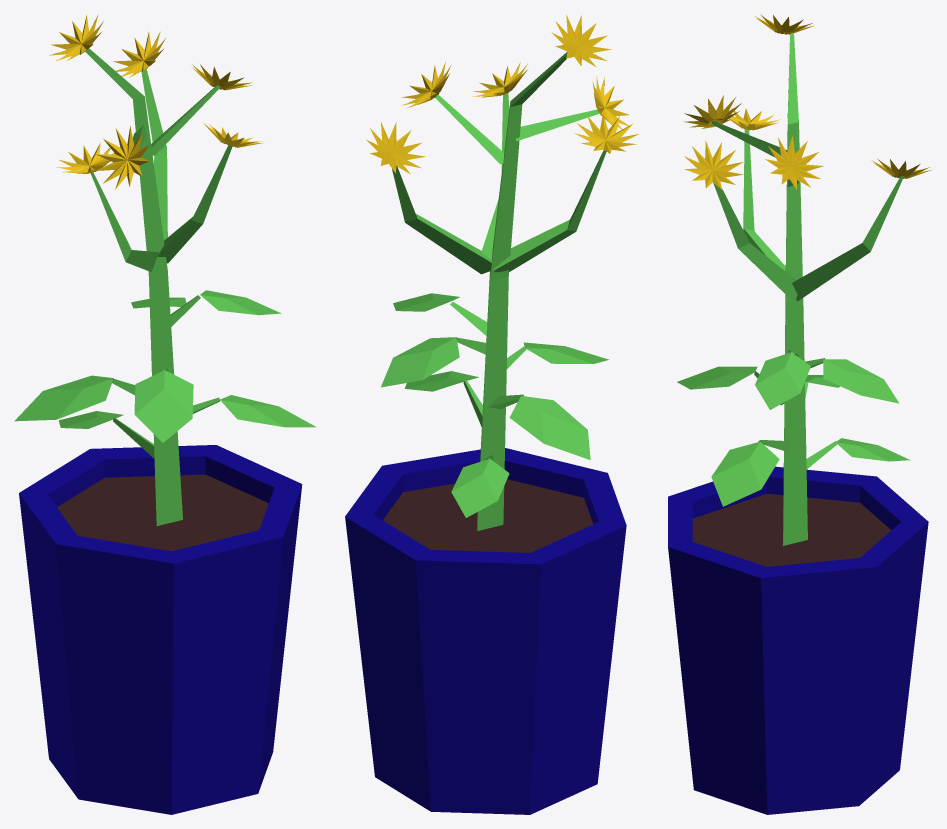
File: jerusalemartichoke.fbx
3 views of the same model, side by side, from view 1: azimuth 30°, elevation 25°; view 2: azimuth 150°, elevation 25°; view 3: azimuth 270°, elevation 25° (orthographic). The views are drawn at different scales.
Parts seen in each view (by area): view 1: Cylinder, Cylinder.001, Cube.001, Cube.004, Cube.005, Cube, Cube.003; view 2: Cylinder, Cylinder.001, Cube.005, Cube.004, Cube, Cube.001, Cube.003, Cube.002; view 3: Cylinder, Cylinder.001, Cube.003, Cube.002, Cube.001, Cube, Cube.005, Cube.004.
Boxes of the visible parts, x1,y1,x2,y2 form: Cylinder: (19, 445, 302, 814); Cylinder.001: (14, 48, 316, 525); Cube.001: (96, 126, 149, 189); Cube.004: (49, 14, 103, 61); Cube.005: (113, 31, 165, 77); Cube: (56, 142, 114, 173); Cube.003: (192, 64, 252, 90); Cylinder: (345, 448, 626, 814); Cylinder.001: (381, 51, 609, 530); Cube.005: (366, 122, 425, 174); Cube.004: (551, 15, 611, 66); Cube: (574, 115, 638, 153); Cube.001: (592, 76, 629, 132); Cube.003: (401, 61, 450, 108); Cube.002: (472, 62, 527, 97); Cylinder: (668, 466, 928, 814); Cylinder.001: (677, 32, 910, 545); Cube.003: (765, 136, 823, 189); Cube.002: (684, 140, 743, 189); Cube.001: (684, 95, 741, 128); Cube: (728, 107, 779, 130); Cube.005: (871, 158, 932, 178); Cube.004: (755, 14, 814, 34).
Bounding box in the file's own units: 197 × 583 × 193.
